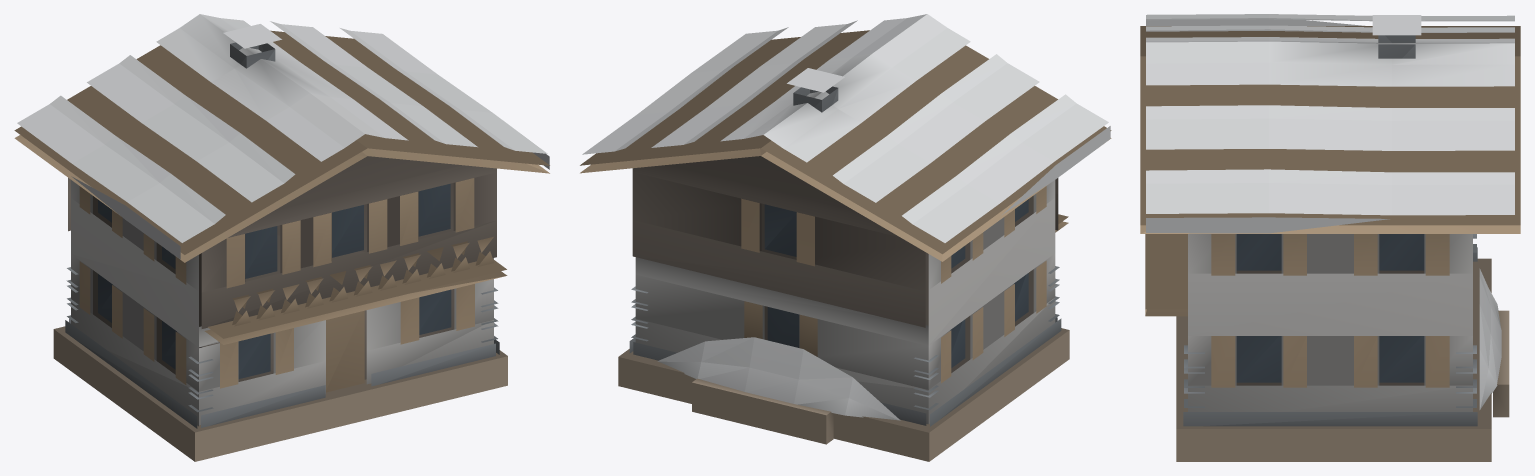
Rendered from chalet.lod.glb.
The picture shows the model from 3 angles, left to right: view 1: azimuth 30°, elevation 25°; view 2: azimuth 150°, elevation 25°; view 3: azimuth 270°, elevation 25°; orthographic projection. The views are drawn at different scales.
Parts seen in each view (by area): view 1: chalet; view 2: chalet; view 3: chalet.
Boxes of the visible parts, box(x1,y1,x2,y2) form: chalet: box(14, 14, 549, 461); chalet: box(580, 14, 1111, 461); chalet: box(1140, 14, 1520, 461).
Size of the model in its own units: 13.5 by 11.02 by 10.8.
